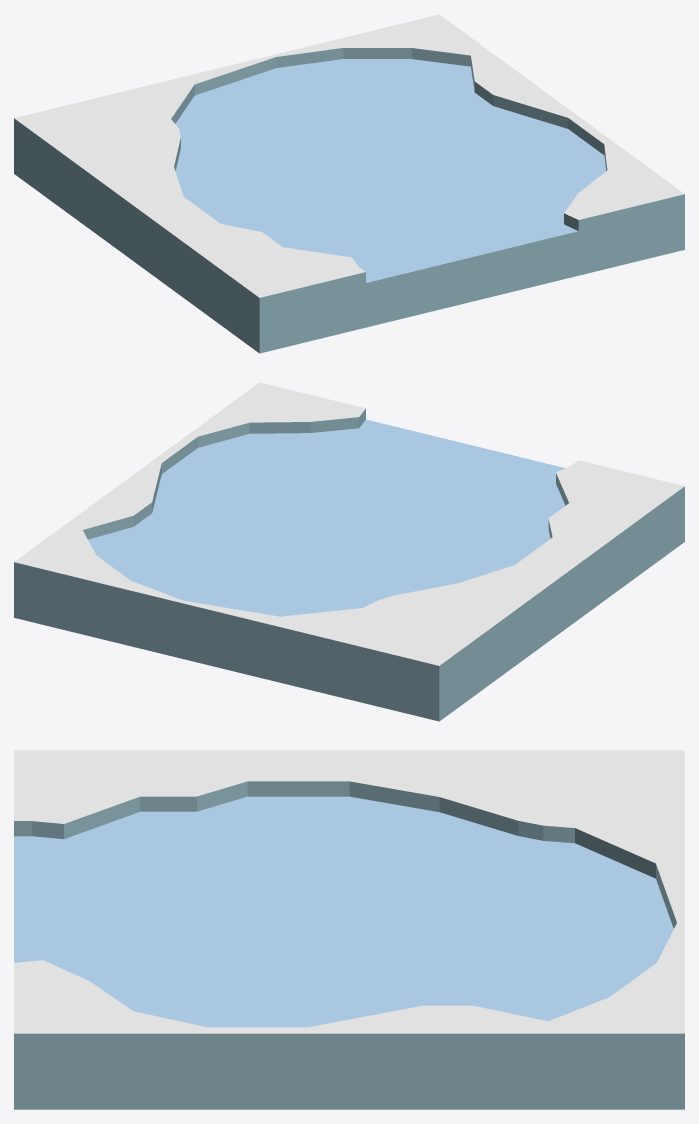
File: Terrain_Tile_Ice_Snow_River_End_01.fbx
The picture shows the model from 3 angles, top to bottom: view 1: azimuth 30°, elevation 25°; view 2: azimuth 150°, elevation 25°; view 3: azimuth 270°, elevation 25°; orthographic projection. The views are drawn at different scales.
Visible parts, largest first — view 1: Terrain_Tile_Ice_Snow_River_End_01; view 2: Terrain_Tile_Ice_Snow_River_End_01; view 3: Terrain_Tile_Ice_Snow_River_End_01.
Boxes of the visible parts, box(x1,y1,x2,y2) form: Terrain_Tile_Ice_Snow_River_End_01: box(14, 14, 684, 353); Terrain_Tile_Ice_Snow_River_End_01: box(14, 382, 684, 721); Terrain_Tile_Ice_Snow_River_End_01: box(14, 750, 684, 1109).
Bounding box in the file's own units: 126 × 15.75 × 126.
